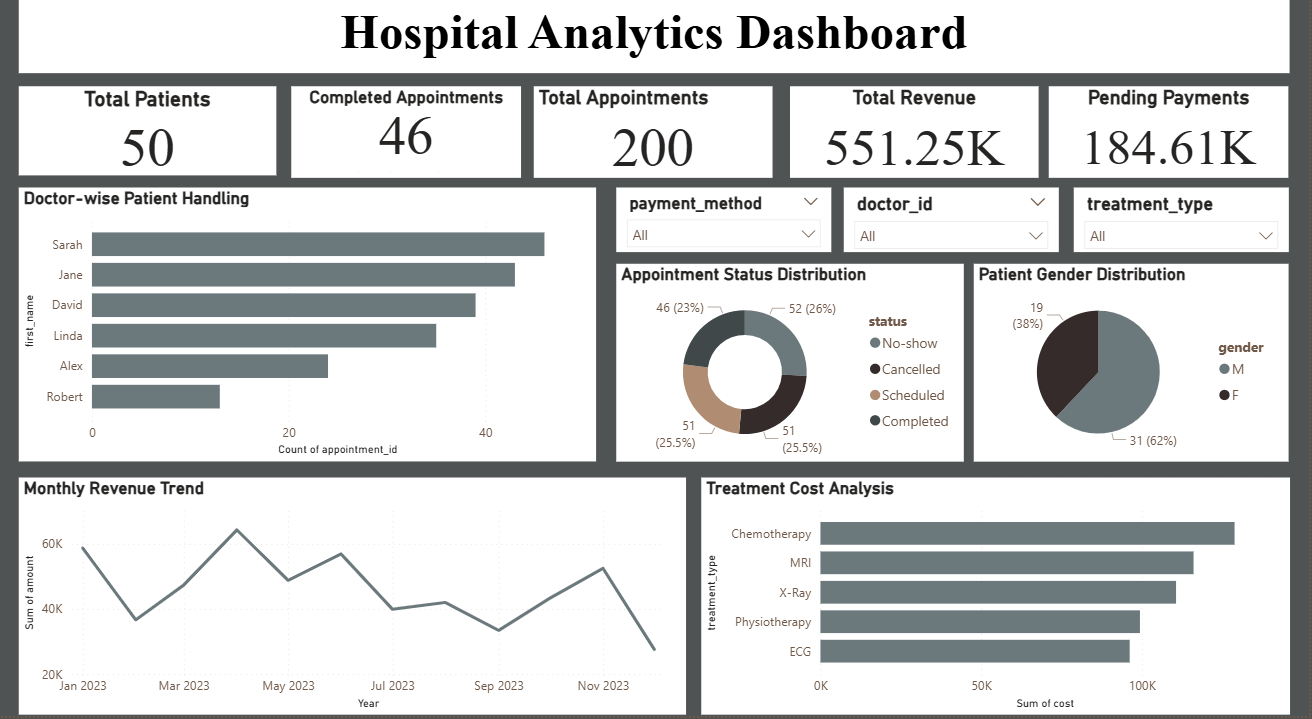

The page's visual inventory and layout, read from the dashboard file:
{"tool":"powerbi","page":{"name":"Page 1","canvas":[1280,720],"ordinal":7},"visuals":[{"type":"textbox","box":[17.8,17.8,1243.2,72.7],"z":0},{"type":"card","title":"Total Patients","fields":{"Values":["patients.Total Patients"]},"box":[18.3,103.9,251.9,87],"z":1000},{"type":"card","title":"Total Revenue","fields":{"Values":["billing.Total Revenues"]},"box":[772.8,103.9,243.3,89.3],"z":2000},{"type":"card","title":"Total Appointments","fields":{"Values":["appointments.Total Appointments"]},"box":[522.1,103.9,233.6,89.3],"z":3000},{"type":"card","title":"Completed Appointments","fields":{"Values":["appointments.Completed Appointments"]},"box":[284.9,103.9,225,89.3],"z":4000},{"type":"card","title":"Pending Payments","fields":{"Values":["billing.Pending Payments"]},"box":[1026,103.9,234.8,89.3],"z":5000},{"type":"donutChart","title":"Appointment Status Distribution","fields":{"Category":["appointments.status"],"Y":["CountNonNull(appointments.appointment_id)"]},"box":[602.9,277.6,339.9,193.2],"z":6000},{"type":"lineChart","title":"Monthly Revenue Trend","fields":{"Y":["Sum(billing.amount)"],"Category":["billing.bill_date.Variation.Date Hierarchy.Year","billing.bill_date.Variation.Date Hierarchy.Month"]},"box":[18.3,486.7,653,232.3],"z":7000},{"type":"barChart","title":"Doctor-wise Patient Handling","fields":{"Category":["doctors.first_name"],"Y":["CountNonNull(appointments.appointment_id)"]},"box":[18.3,203,564.9,267.8],"z":8000},{"type":"pieChart","title":"Patient Gender Distribution","fields":{"Category":["patients.gender"],"Y":["CountNonNull(patients.patient_id)"]},"box":[952.6,277.6,308.2,193.2],"z":9000},{"type":"barChart","title":"Treatment Cost Analysis","fields":{"Category":["treatments.treatment_type"],"Y":["Sum(treatments.cost)"]},"box":[686,486.7,576,232.3],"z":10000},{"type":"slicer","fields":{"Values":["doctors.doctor_id"]},"box":[825.4,203,210.3,63.6],"z":11000},{"type":"slicer","fields":{"Values":["billing.payment_method"]},"box":[602.9,203,210.3,63.6],"z":12000},{"type":"slicer","fields":{"Values":["treatments.treatment_type"]},"box":[1050.4,203,210.3,63.6],"z":13000}]}

Visuals, with their boxes in screenshot pixels (x1, y1, x2, y2), scaled from the page's 1280x720 canvas onto the 1312x719 screenshot:
textbox: (left=18, top=18, right=1293, bottom=90)
"Total Patients" card: (left=19, top=104, right=277, bottom=191)
"Total Revenue" card: (left=792, top=104, right=1042, bottom=193)
"Total Appointments" card: (left=535, top=104, right=775, bottom=193)
"Completed Appointments" card: (left=292, top=104, right=523, bottom=193)
"Pending Payments" card: (left=1052, top=104, right=1292, bottom=193)
"Appointment Status Distribution" donutChart: (left=618, top=277, right=966, bottom=470)
"Monthly Revenue Trend" lineChart: (left=19, top=486, right=688, bottom=718)
"Doctor-wise Patient Handling" barChart: (left=19, top=203, right=598, bottom=470)
"Patient Gender Distribution" pieChart: (left=976, top=277, right=1292, bottom=470)
"Treatment Cost Analysis" barChart: (left=703, top=486, right=1294, bottom=718)
slicer - doctors.doctor_id: (left=846, top=203, right=1062, bottom=266)
slicer - billing.payment_method: (left=618, top=203, right=834, bottom=266)
slicer - treatments.treatment_type: (left=1077, top=203, right=1292, bottom=266)
